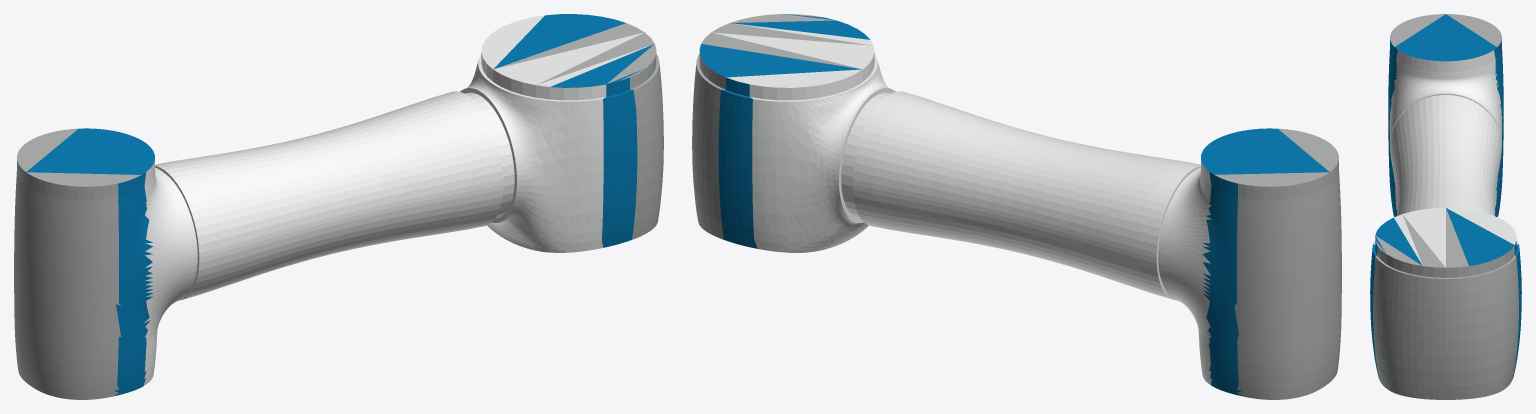
File: DobotCR16Link3.dae
3 renders of one model, left to right at view 1: azimuth 30°, elevation 25°; view 2: azimuth 150°, elevation 25°; view 3: azimuth 270°, elevation 25°, orthographic. The views are drawn at different scales.
Visible parts, largest first — view 1: DobotCR16Link3; view 2: DobotCR16Link3; view 3: DobotCR16Link3.
Boxes of the visible parts, <box> form: DobotCR16Link3: <box>14,14,663,399</box>; DobotCR16Link3: <box>692,14,1341,399</box>; DobotCR16Link3: <box>1370,14,1521,399</box>.
Size of the model in its own units: 0.4703 by 0.1218 by 0.1565.
